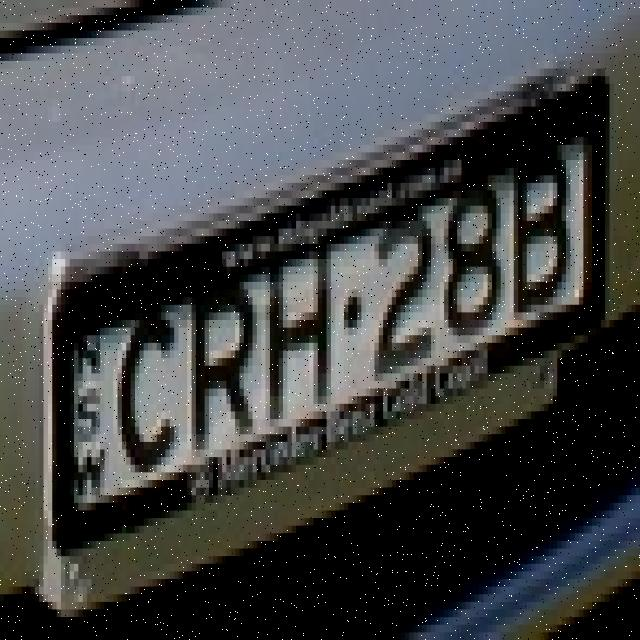licenseplate: (27, 47, 619, 552)
